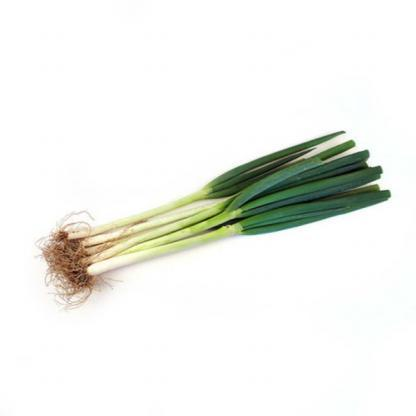green onion: (35, 122, 390, 310)
